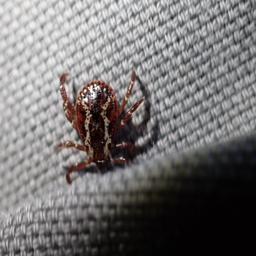Dermacentor variabilis: (51, 69, 149, 185)
